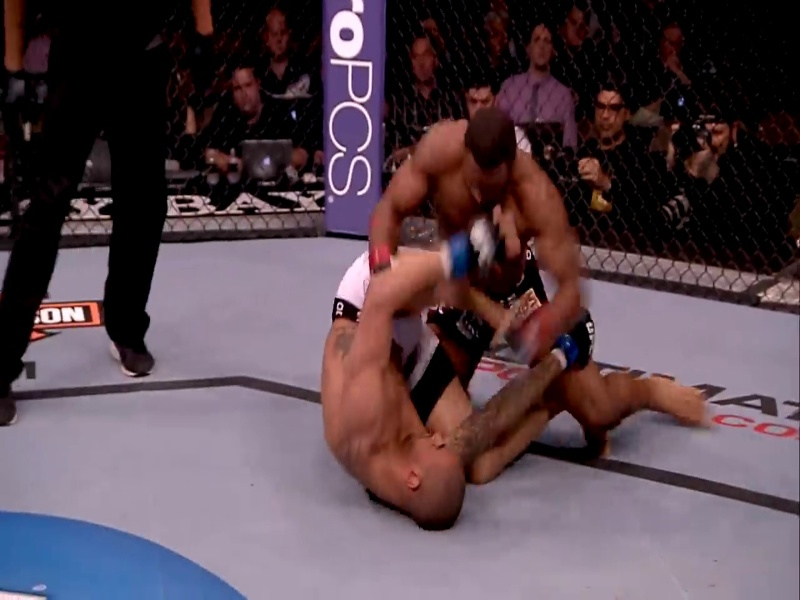fighter: (366, 93, 729, 482), (317, 206, 607, 556)
